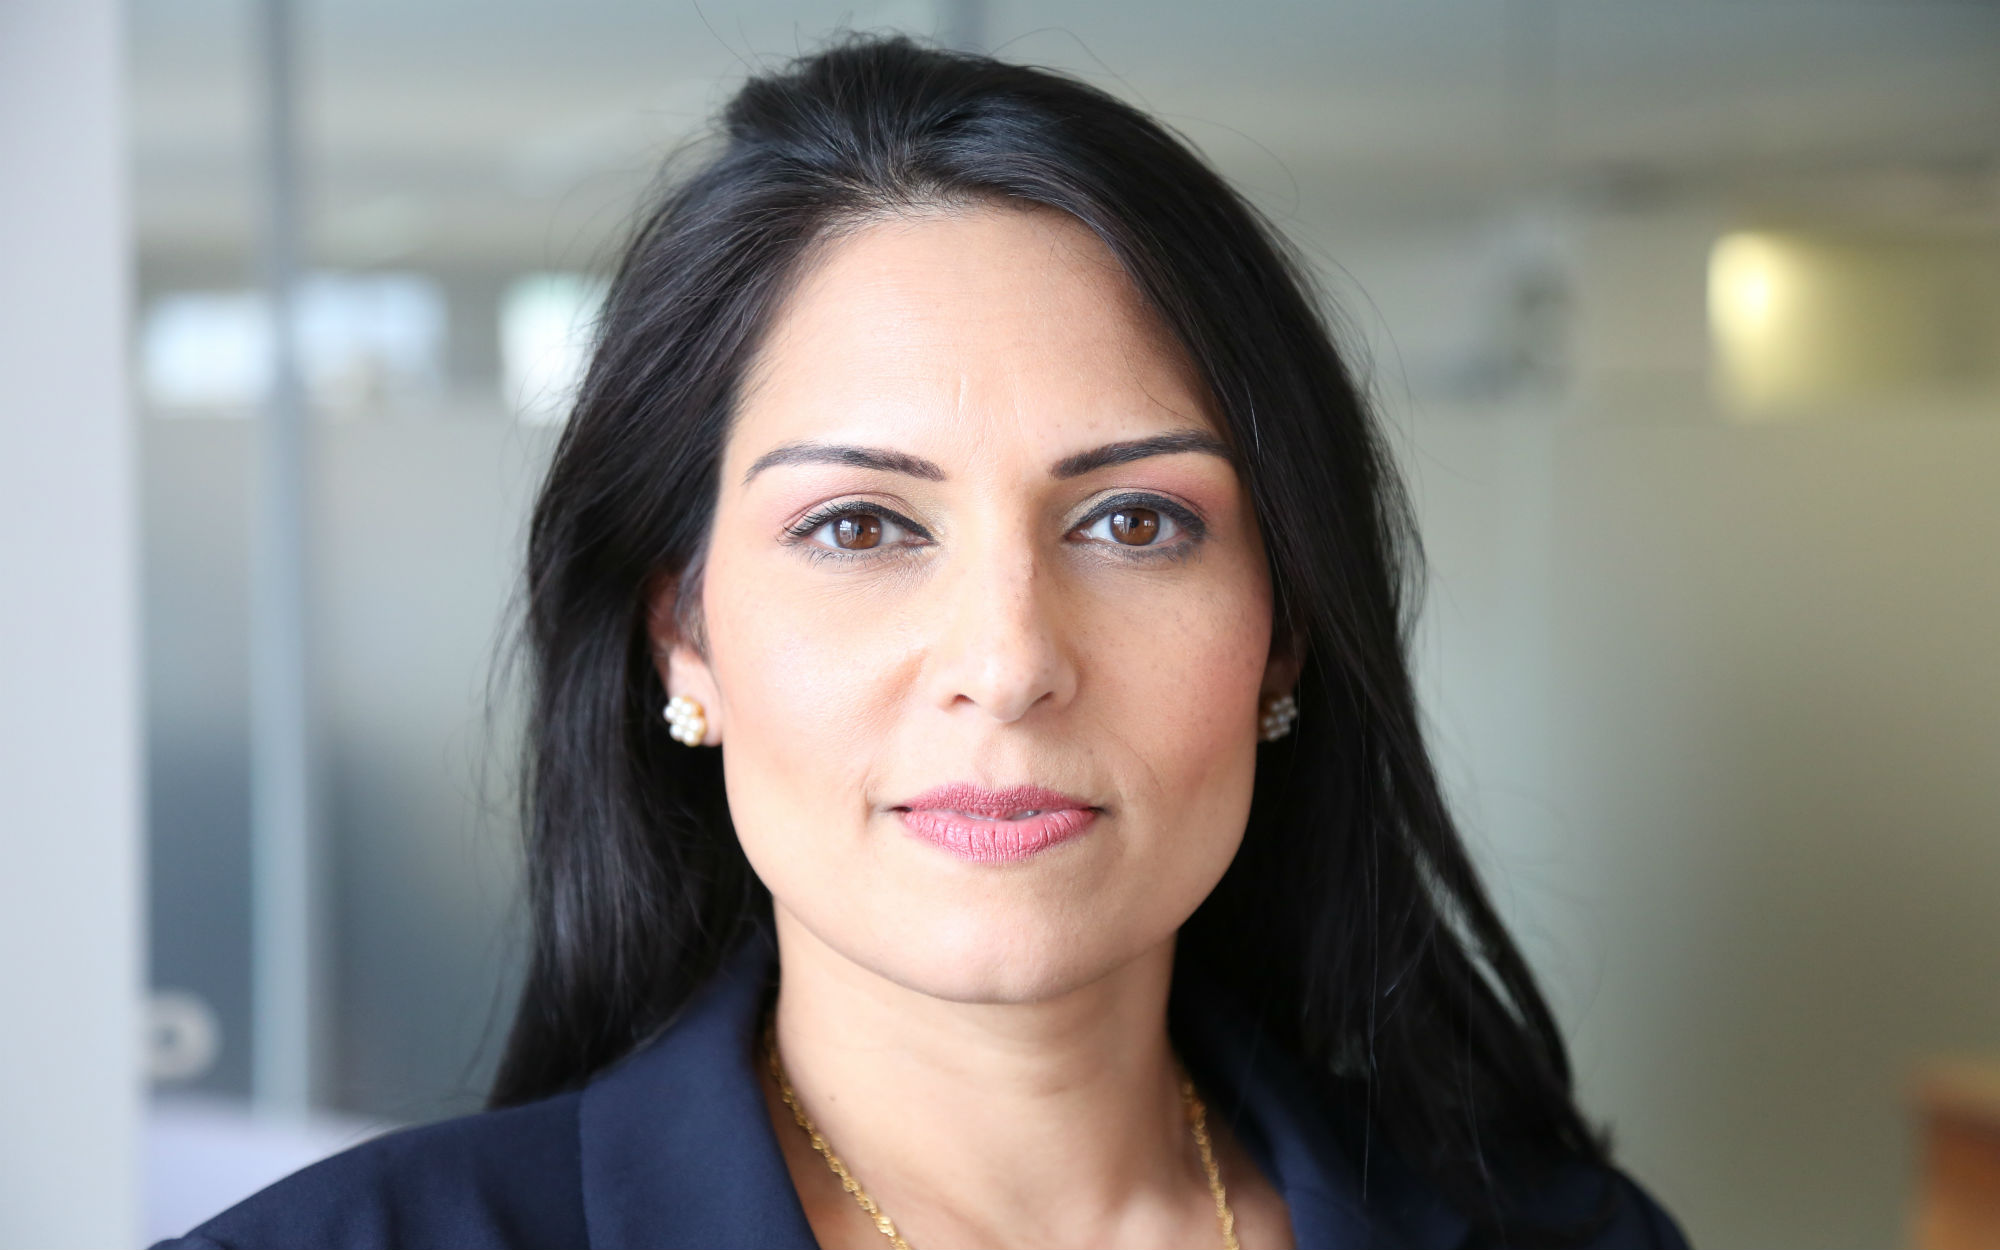Without Helmet: (480, 33, 1478, 1183)
